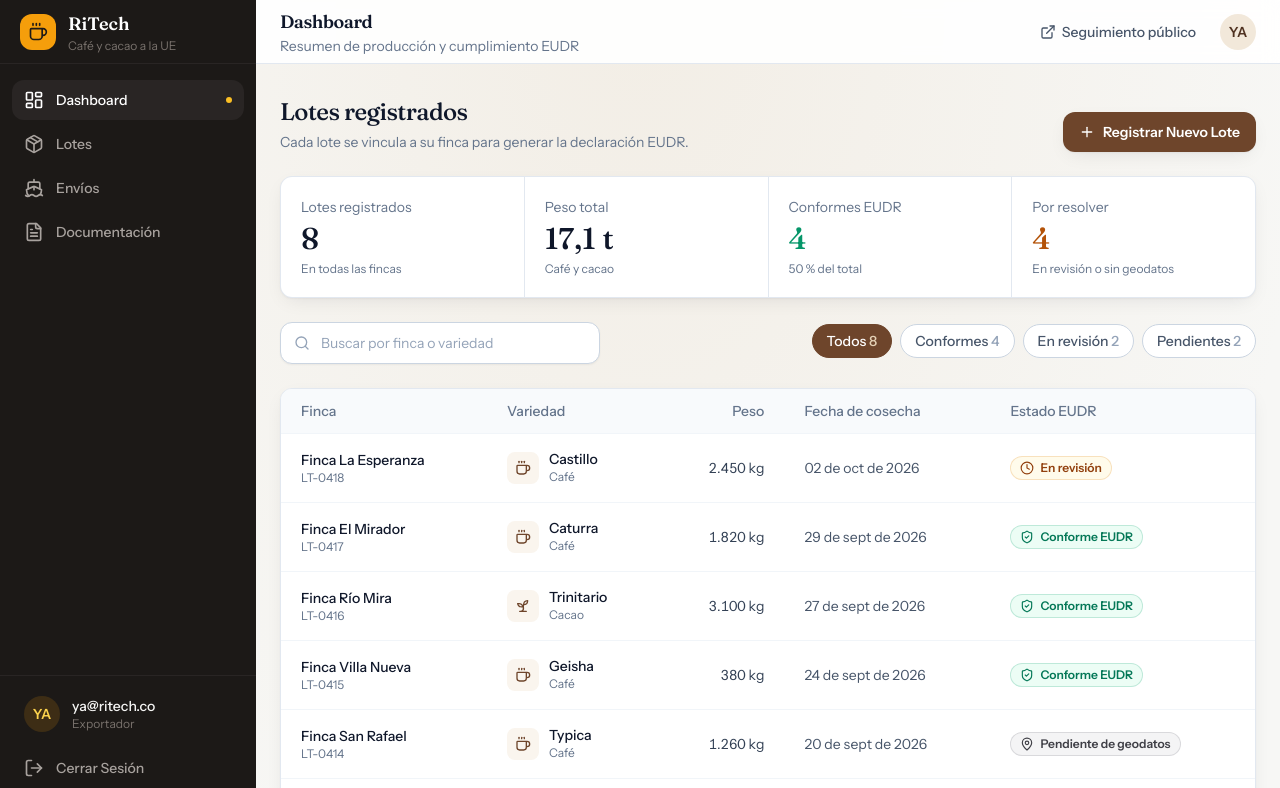
Test case: App (integración: rutas + sesión + vistas) › navega entre Dashboard y Lotes con la barra lateral
This screenshot has width=1280, height=788.
Click the link "Lotes" at (58, 144), box [24, 134, 92, 154]
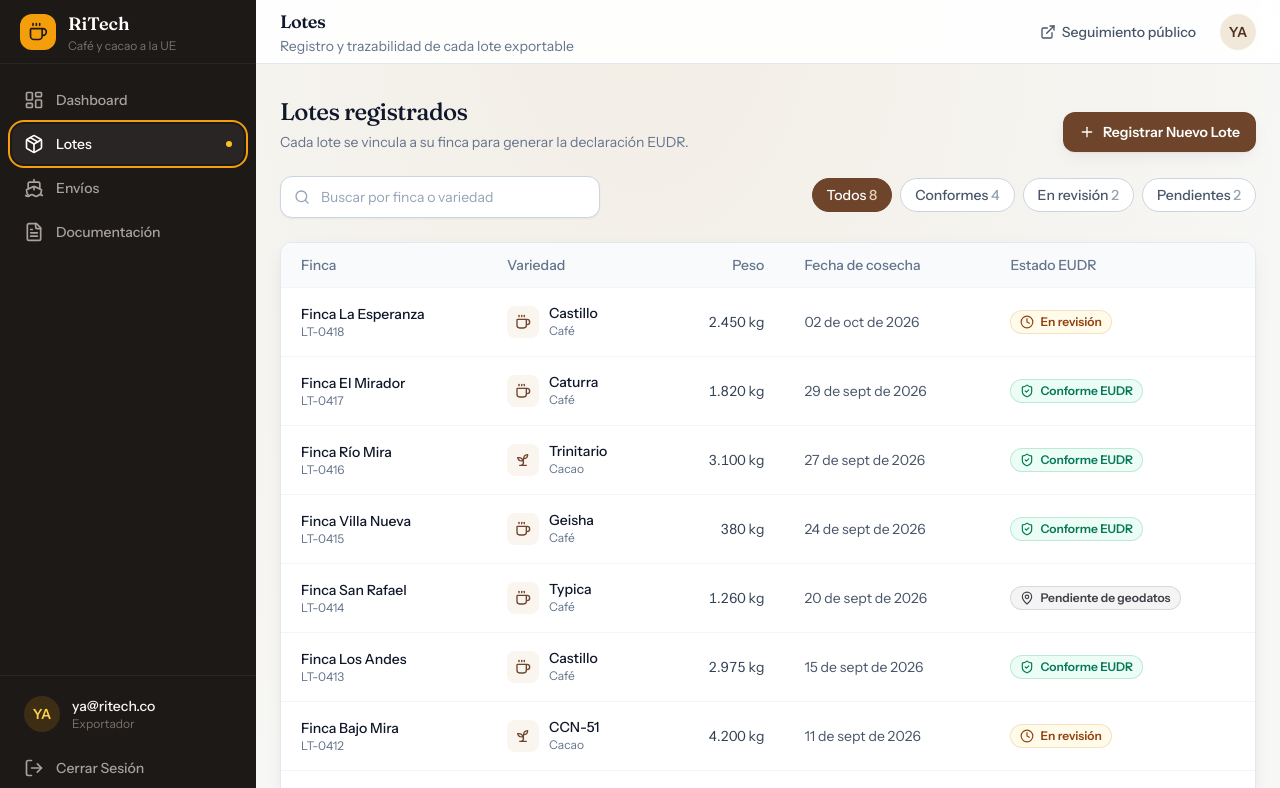
Expected: the text "Registro y trazabilidad de cada lote exportable" is shown, [280, 36, 574, 54]
